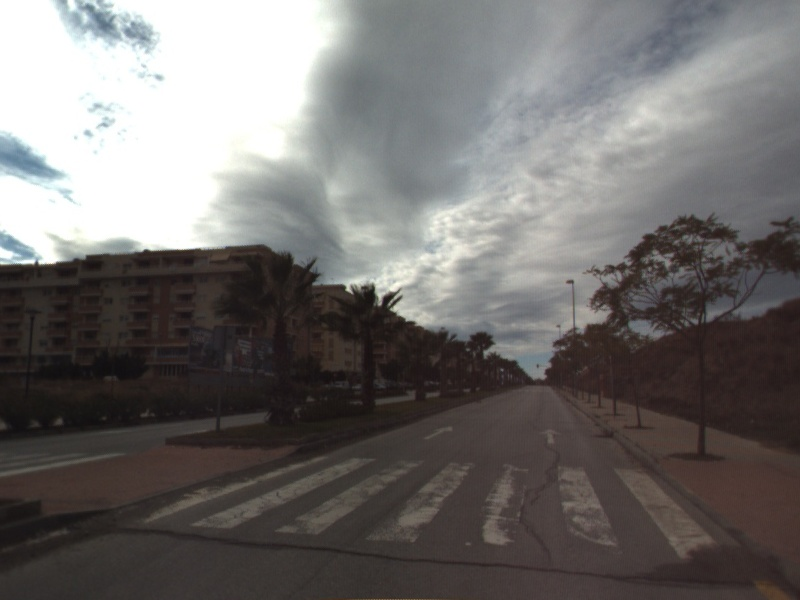STRAIGHT: (422, 424, 455, 441), (537, 426, 564, 446)
